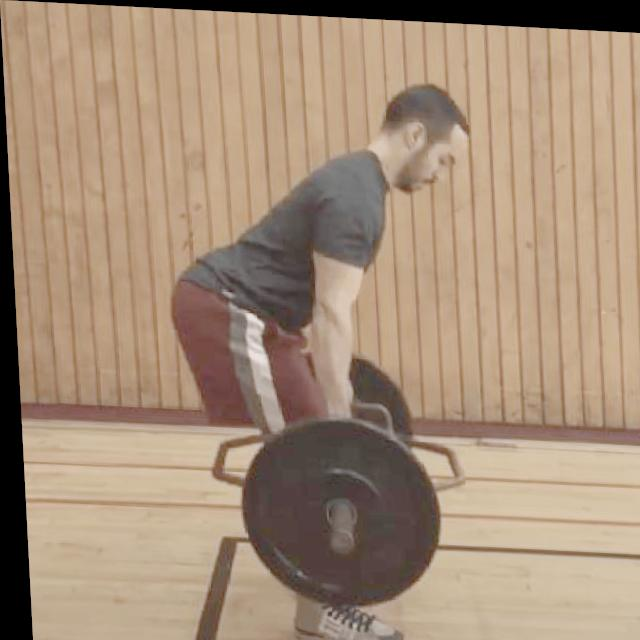barbell: (226, 405, 446, 614)
